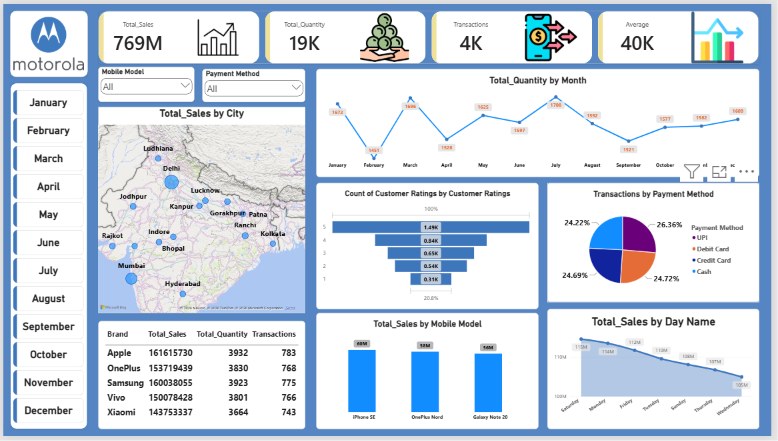

The page's visual inventory and layout, read from the dashboard file:
{"tool":"powerbi","page":{"name":"Page 1","canvas":[1920,1080],"ordinal":0},"visuals":[{"type":"shape","box":[16.7,16.7,193.3,164.6],"z":0},{"type":"image","box":[26.2,26.2,176.6,147.9],"z":1000},{"type":"shape","box":[17.5,197.5,192.5,865],"z":2000},{"type":"advancedSlicerVisual","fields":{"Values":["Sheet1.Date.Variation.Date Hierarchy.Month"]},"box":[26.2,214.7,176.6,832.7],"z":3000},{"type":"cardVisual","fields":{"Data":["Sales_Data.Total_Sales","Sales_Data.Total_Quantity","Sales_Data.Transactions","Sales_Data.Average"]},"box":[237.5,17.5,1652.5,132.5],"z":4000},{"type":"map","fields":{"Category":["Sales_Data.City"],"Size":["Sales_Data.Total_Sales"]},"box":[237.5,257.5,517.5,515],"z":5000},{"type":"lineChart","fields":{"Category":["Sales_Data.Date.Variation.Date Hierarchy.Month","Sales_Data.Date.Variation.Date Hierarchy.Day"],"Y":["Sales_Data.Total_Quantity"]},"box":[782.5,162.5,1107.5,270],"z":6000},{"type":"lineClusteredColumnComboChart","fields":{"Category":["Sales_Data.Mobile Model"],"Y":["Sales_Data.Total_Sales"]},"box":[782.5,772.5,555,290],"z":7000},{"type":"pieChart","fields":{"Category":["Sales_Data.Payment Method"],"Y":["Sales_Data.Transactions"]},"box":[1360,447.5,530,297.5],"z":8000},{"type":"funnel","fields":{"Category":["Sales_Data.Customer Ratings"],"Y":["CountNonNull(Sales_Data.Customer Ratings)"]},"box":[782.5,447.5,555,315],"z":9000},{"type":"areaChart","fields":{"Category":["Sales_Data.Day Name"],"Y":["Sales_Data.Total_Sales"]},"box":[1360,762.5,530,300],"z":10000},{"type":"tableEx","fields":{"Values":["Sales_Data.Brand","Sales_Data.Total_Sales","Sales_Data.Total_Quantity","Sales_Data.Transactions"]},"box":[237.5,792.5,517.5,270],"z":11000},{"type":"slicer","fields":{"Values":["Sales_Data.Payment Method"]},"box":[497.5,162.5,257.5,82.5],"z":11001},{"type":"slicer","fields":{"Values":["Sales_Data.Mobile Model"]},"box":[237.5,157.5,240,87.5],"z":11002}]}

Visuals, with their boxes in screenshot pixels (x1, y1, x2, y2), scaled from the page's 1920x1080 canvas onto the 778x441 screenshot:
shape: (7,7,85,74)
image: (11,11,82,71)
shape: (7,81,85,434)
advancedSlicerVisual - Sheet1.Date.Variation.Date Hierarchy.Month: (11,88,82,428)
cardVisual - Sales_Data.Total_Sales x Sales_Data.Total_Quantity: (96,7,766,61)
map - Sales_Data.City x Sales_Data.Total_Sales: (96,105,306,315)
lineChart - Sales_Data.Date.Variation.Date Hierarchy.Month x Sales_Data.Date.Variation.Date Hierarchy.Day: (317,66,766,177)
lineClusteredColumnComboChart - Sales_Data.Mobile Model x Sales_Data.Total_Sales: (317,315,542,434)
pieChart - Sales_Data.Payment Method x Sales_Data.Transactions: (551,183,766,304)
funnel - Sales_Data.Customer Ratings x CountNonNull(Sales_Data.Customer Ratings): (317,183,542,311)
areaChart - Sales_Data.Day Name x Sales_Data.Total_Sales: (551,311,766,434)
tableEx - Sales_Data.Brand x Sales_Data.Total_Sales: (96,324,306,434)
slicer - Sales_Data.Payment Method: (202,66,306,100)
slicer - Sales_Data.Mobile Model: (96,64,193,100)
